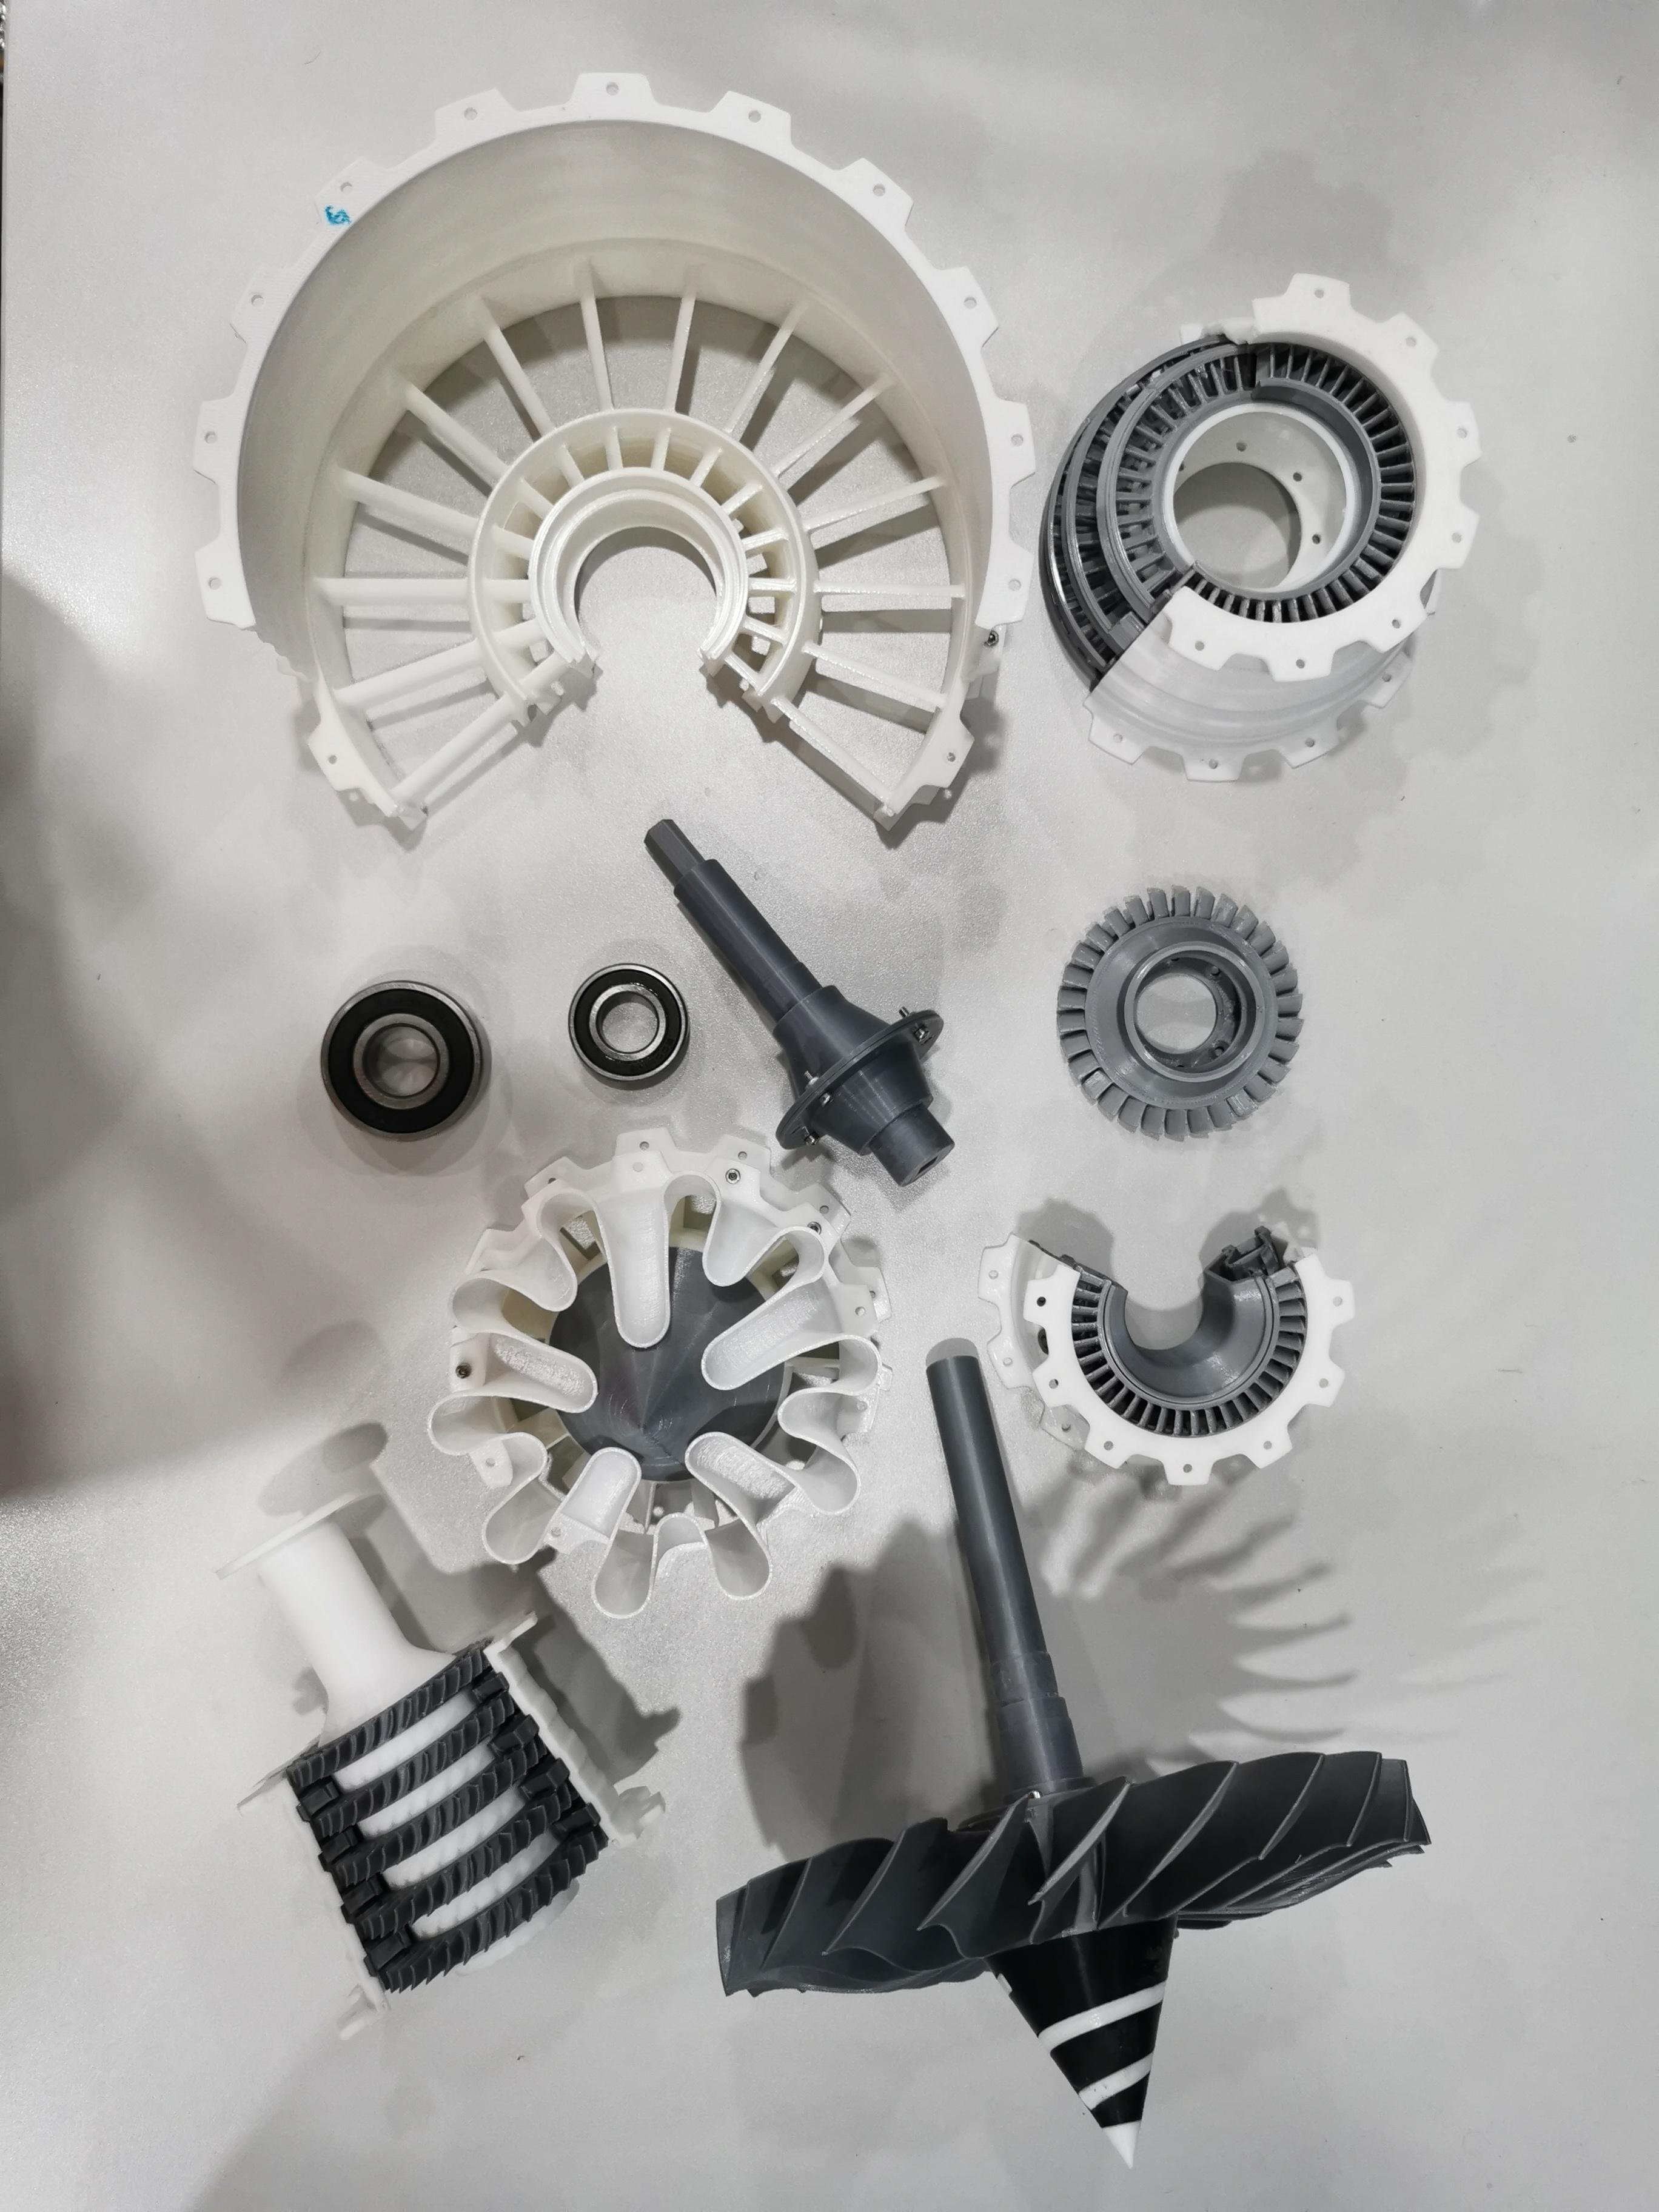Bearing-6003: (537, 939, 714, 1125)
Bearing-6204: (296, 956, 505, 1157)
Combustion Section: (951, 1216, 1370, 1514)
Fan Casing and Support: (178, 63, 1042, 859)
Fan and Low Pressure Shaft: (702, 1348, 1439, 2181)
HPT Section: (1023, 876, 1326, 1160)
High Pressure Spool: (195, 1470, 676, 2059)
LPT Section: (1025, 261, 1495, 796)
Low Pressure Spool: (627, 796, 971, 1198)
Nozzle Section: (420, 1108, 911, 1627)
